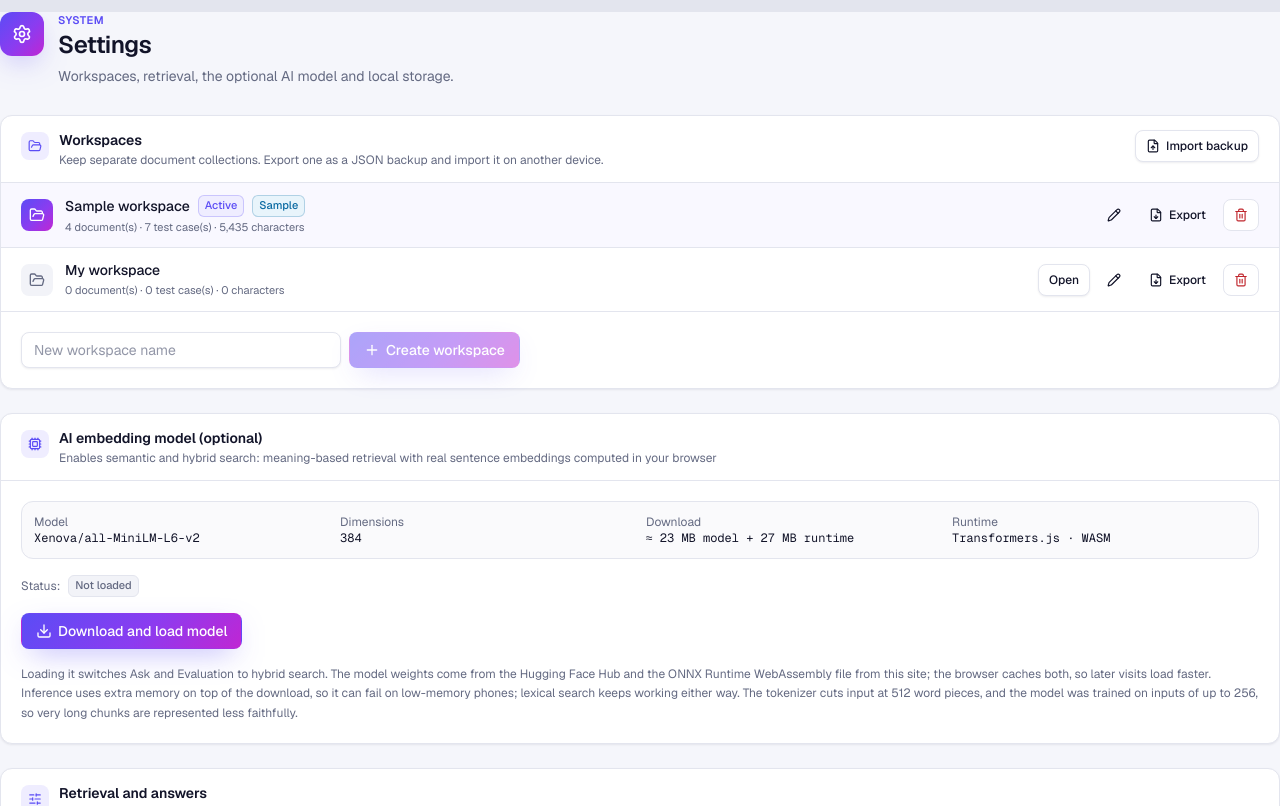
Scenario: SettingsView and the embedding engine › loads the embedding model, embeds every chunk and enables semantic retrieval
Check: the heading "Settings" is shown, box [58, 28, 151, 60]
Step 1. Click the button "Download and load model" → (132, 631), box [21, 613, 242, 649]
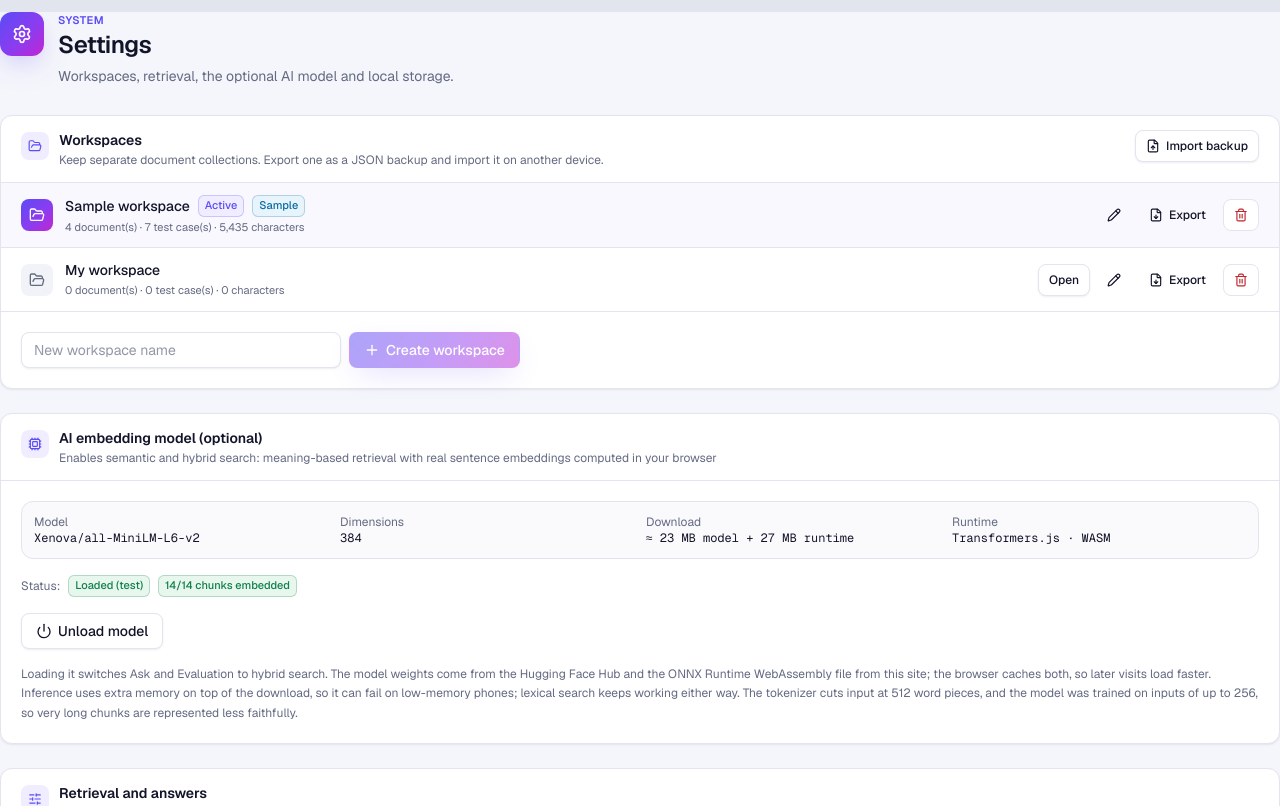
Check: the text "Loaded (test)" is shown, box [68, 575, 150, 597]
Check: the text "14/14 chunks embedded" is shown, box [158, 575, 297, 597]
